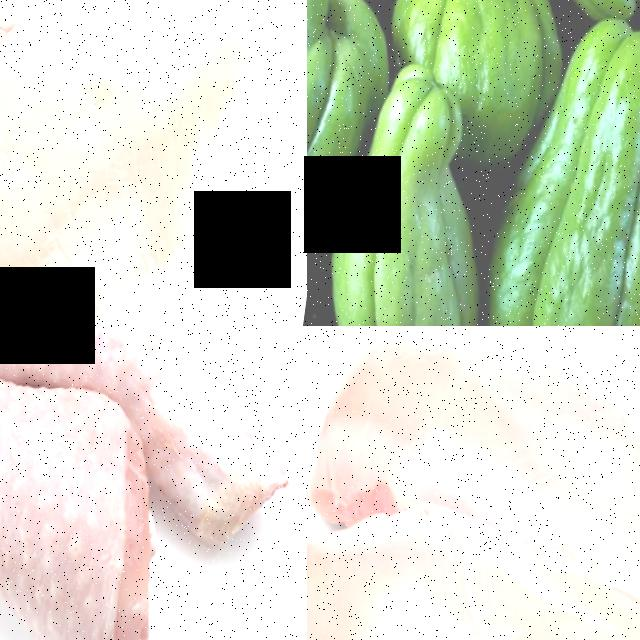chayote: (453, 6, 640, 326), (318, 65, 535, 326), (307, 0, 413, 326), (385, 0, 564, 130)
chicken breast: (0, 0, 307, 326), (307, 326, 640, 557), (307, 557, 640, 640)
chicken thigh: (0, 326, 238, 640)
